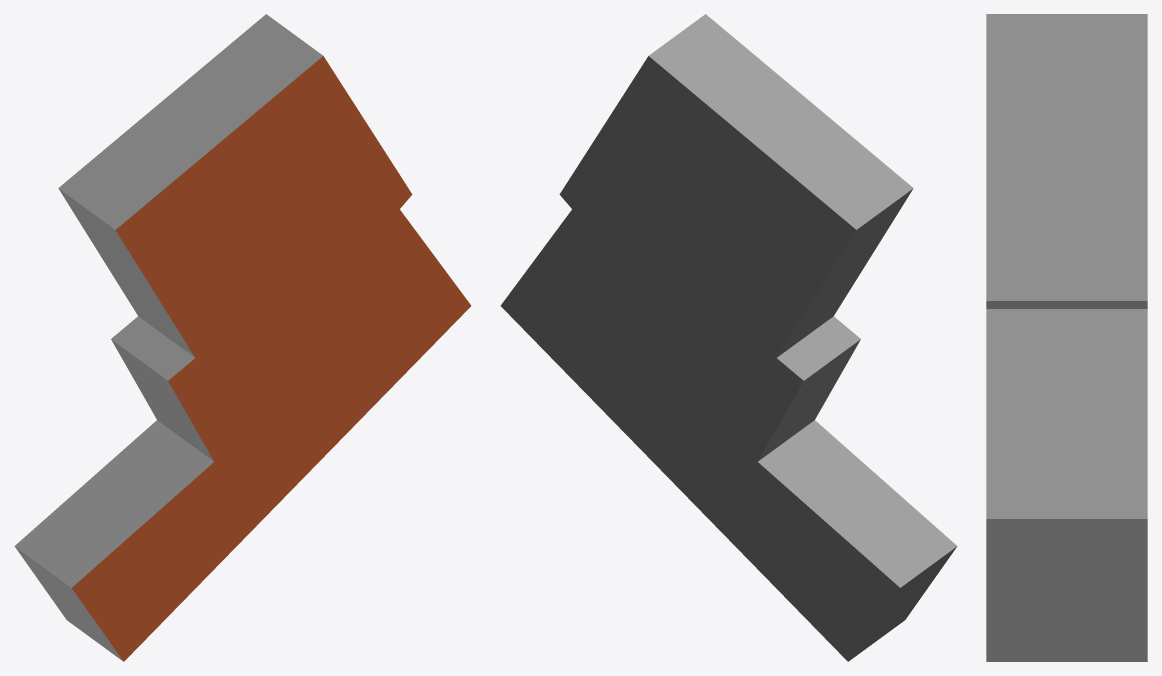
File: construction_6522_assumed_A_Casa_h6m.obj
3 renders of one model, left to right at view 1: azimuth 30°, elevation 25°; view 2: azimuth 150°, elevation 25°; view 3: azimuth 270°, elevation 25°, orthographic. The views are drawn at different scales.
Parts seen in each view (by area): view 1: construction_6522_assumed_A_Casa; view 2: construction_6522_assumed_A_Casa; view 3: construction_6522_assumed_A_Casa.
Part boxes in pixels (bbox=[...]): construction_6522_assumed_A_Casa: bbox=[14, 14, 471, 661]; construction_6522_assumed_A_Casa: bbox=[500, 14, 957, 661]; construction_6522_assumed_A_Casa: bbox=[986, 14, 1147, 661].
Size of the model in its own units: 24.23 by 32.27 by 6.
